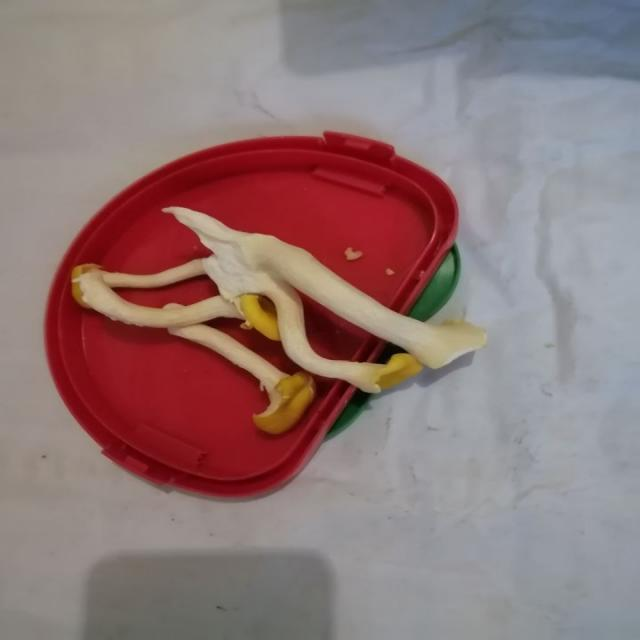Pleurotus citrinopileatus: (72, 211, 482, 436)
